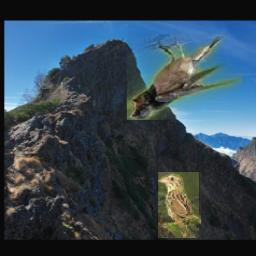Sparrow: (158, 173, 201, 239)
Swallow: (128, 34, 243, 120)
